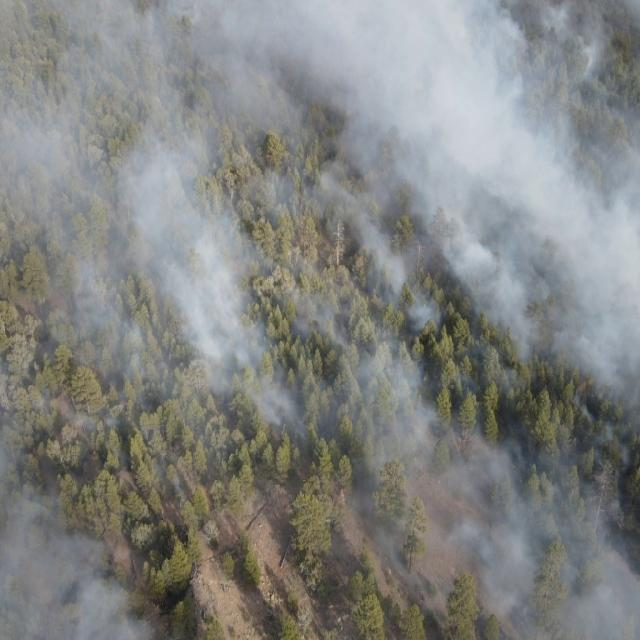fire: (349, 254, 364, 266), (117, 400, 131, 410), (614, 519, 624, 532)
smoke: (0, 1, 640, 468), (343, 467, 640, 640), (0, 467, 167, 639)
